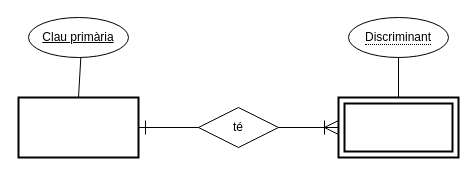
The diagram is 476 pixels wide and 176 high, and some of its shapes have lost their labels. Each missing label, with the centre of its shape:
"ENTITAT FEBLE" belongs at (398,127).
"ENTITAT FORTA" belongs at (78,127).
